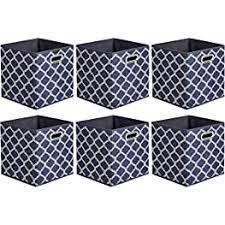cube: (79, 36, 152, 109), (152, 115, 225, 187), (4, 37, 76, 108), (153, 38, 225, 108), (2, 117, 74, 187), (80, 115, 150, 185)
